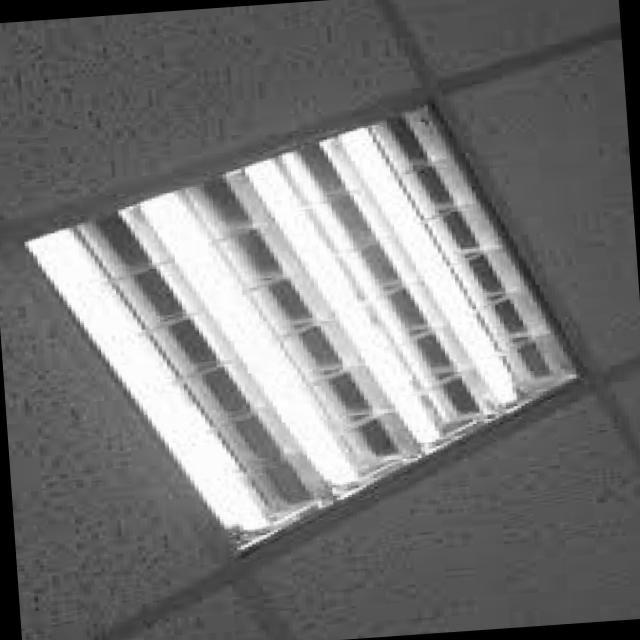light: (24, 103, 578, 546)
